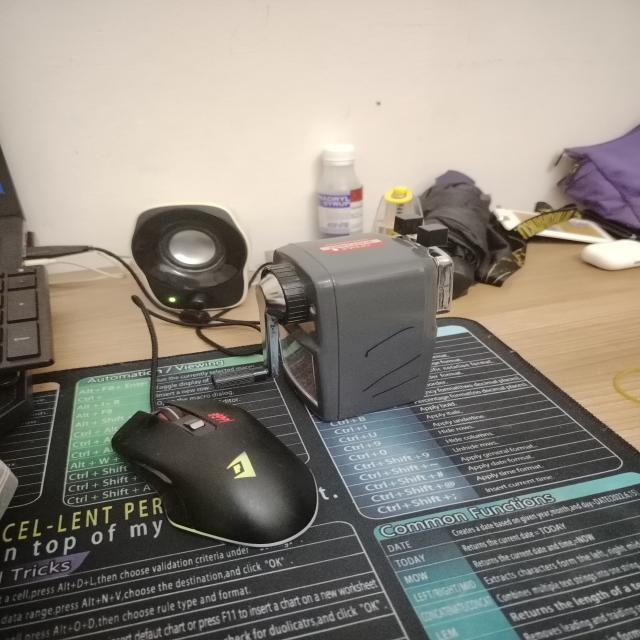sharpener: (213, 211, 453, 421)
